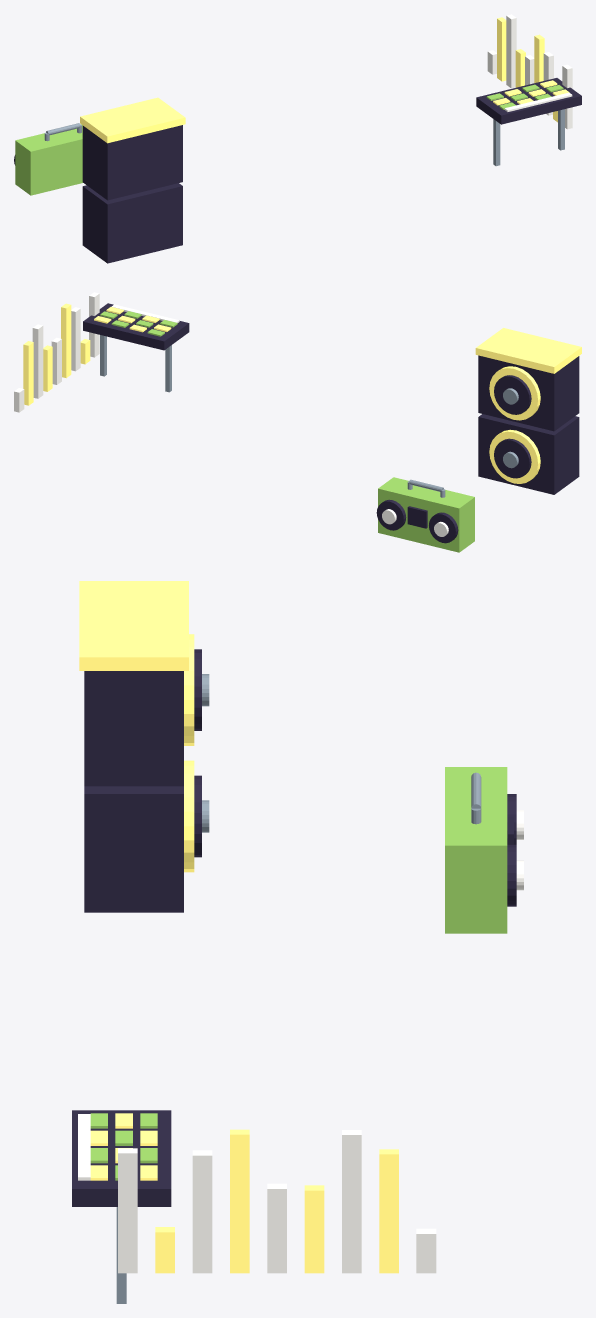
Rendered from studio-props-funk.glb.
The picture shows the model from 3 angles, top to bottom: view 1: azimuth 30°, elevation 25°; view 2: azimuth 150°, elevation 25°; view 3: azimuth 270°, elevation 25°; orthographic projection. The views are drawn at different scales.
Parts seen in each view (by area): view 1: funk original studio collection; view 2: funk original studio collection; view 3: funk original studio collection.
Boxes of the visible parts, x1,y1,x2,y2 form: funk original studio collection: [14, 14, 581, 263]; funk original studio collection: [14, 292, 581, 552]; funk original studio collection: [72, 581, 523, 1303].
Bounding box in the file's own units: 8.82 × 2.37 × 3.63.
